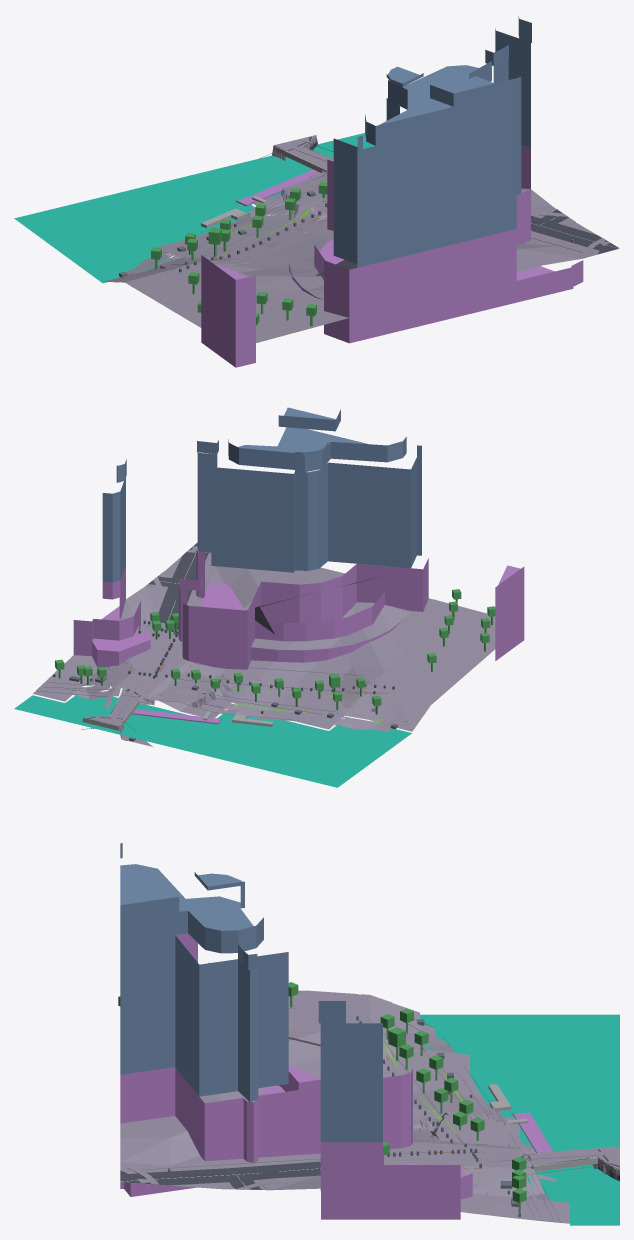
The picture shows the model from 3 angles, top to bottom: view 1: azimuth 30°, elevation 25°; view 2: azimuth 150°, elevation 25°; view 3: azimuth 270°, elevation 25°; orthographic projection. The views are drawn at different scales.
Visible parts, largest first — view 1: compiled-chunk; view 2: compiled-chunk; view 3: compiled-chunk.
Boxes of the visible parts, bbox=[...] form: compiled-chunk: bbox=[14, 16, 619, 367]; compiled-chunk: bbox=[14, 407, 524, 787]; compiled-chunk: bbox=[118, 843, 619, 1225].
Bounding box in the file's own units: 168 × 71.5 × 146.
